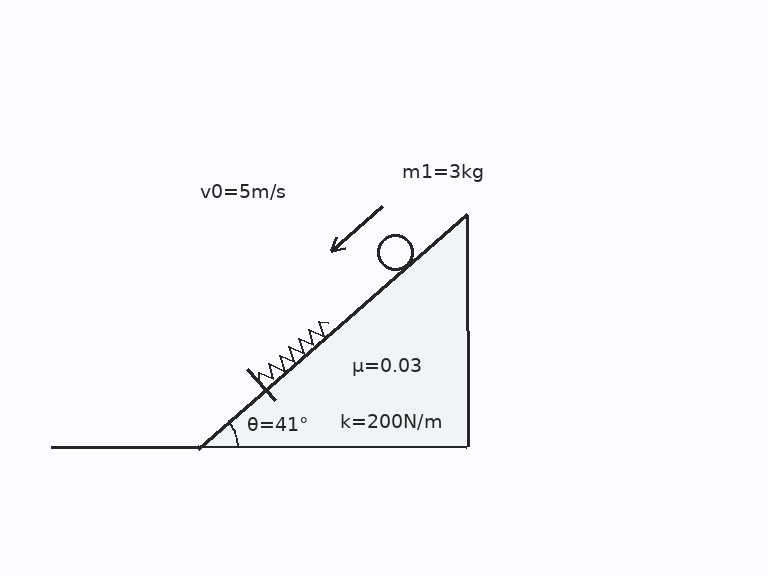ball: (375, 232, 415, 272)
ramp: (196, 212, 468, 449)
spring: (257, 318, 331, 384)
